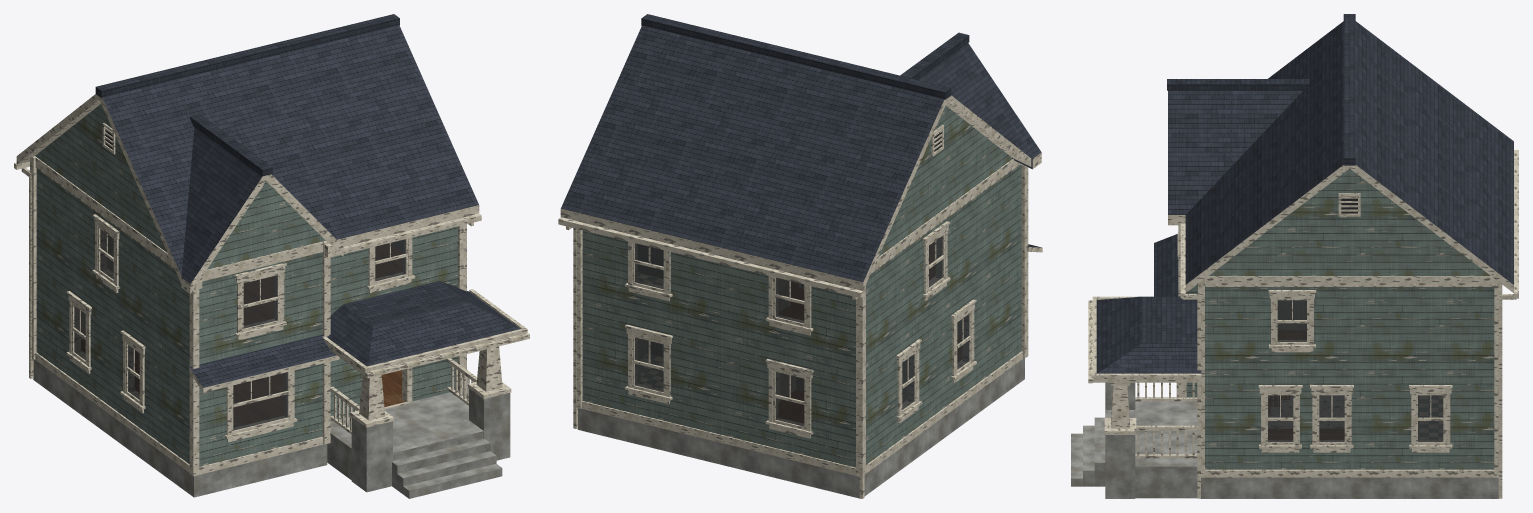
Rendered from SM_FirstJobHouse_Walkable.fbx.
3 renders of one model, left to right at view 1: azimuth 30°, elevation 25°; view 2: azimuth 150°, elevation 25°; view 3: azimuth 270°, elevation 25°, orthographic. The views are drawn at different scales.
Parts seen in each view (by area): view 1: SM_FirstJobHouse_Walkable; view 2: SM_FirstJobHouse_Walkable; view 3: SM_FirstJobHouse_Walkable.
Part boxes in pixels (<box>): SM_FirstJobHouse_Walkable: <box>14,14,529,498</box>; SM_FirstJobHouse_Walkable: <box>558,14,1042,498</box>; SM_FirstJobHouse_Walkable: <box>1071,14,1518,498</box>.
Size of what is drawn, in the model's own units: 8.67 by 9.64 by 11.33.
Materials: 13 (11 with a texture image).
